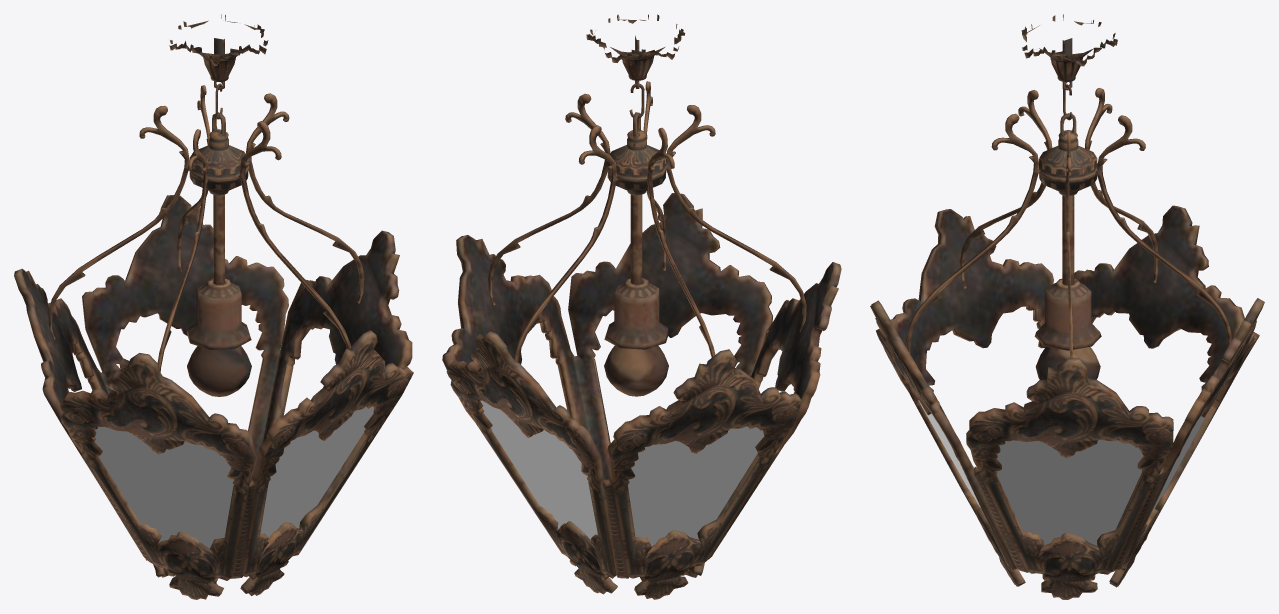
The model's file is lantern_chandelier_01.glb.
3 views of the same model, side by side, from view 1: azimuth 30°, elevation 25°; view 2: azimuth 150°, elevation 25°; view 3: azimuth 270°, elevation 25° (orthographic).
Parts seen in each view (by area): view 1: lantern_chandelier_01_0, lantern_chandelier_01_1, lantern_chandelier_01_2; view 2: lantern_chandelier_01_0, lantern_chandelier_01_1, lantern_chandelier_01_2; view 3: lantern_chandelier_01_0, lantern_chandelier_01_1, lantern_chandelier_01_2.
Part boxes in pixels (x1,y1,x2,y2): lantern_chandelier_01_0: (14,14,413,599); lantern_chandelier_01_1: (94,406,373,548); lantern_chandelier_01_2: (187,346,251,396); lantern_chandelier_01_0: (442,14,841,599); lantern_chandelier_01_1: (480,400,764,546); lantern_chandelier_01_2: (604,345,668,396); lantern_chandelier_01_0: (870,14,1264,599); lantern_chandelier_01_1: (918,400,1211,545); lantern_chandelier_01_2: (1035,347,1100,379).
Bounding box in the file's own units: 0.5792 × 0.8776 × 0.5746.
Materials: 3 (2 with a texture image).
